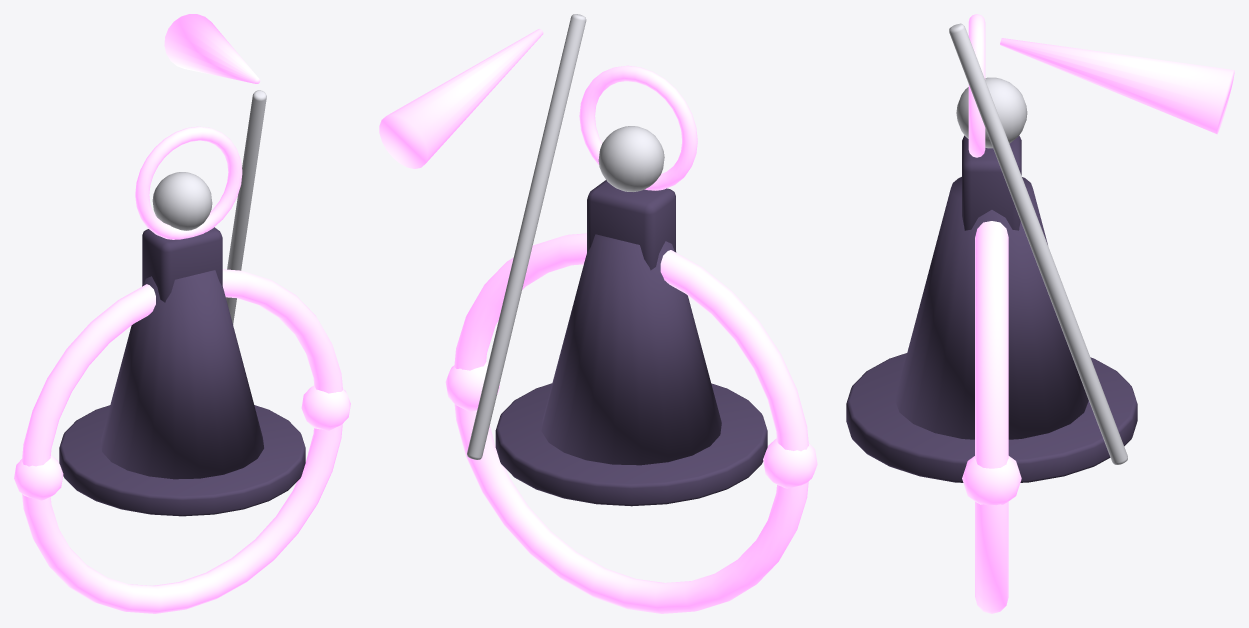
The model's file is hero_vespera.glb.
3 renders of one model, left to right at view 1: azimuth 30°, elevation 25°; view 2: azimuth 150°, elevation 25°; view 3: azimuth 270°, elevation 25°, orthographic. The views are drawn at different scales.
Parts seen in each view (by area): view 1: StaticBody, Anim_Rotor, Anim_Weapon; view 2: StaticBody, Anim_Rotor, Anim_Weapon; view 3: StaticBody, Anim_Weapon, Anim_Rotor.
Part boxes in pixels (x1,y1,x2,y2): StaticBody: [59, 126, 305, 516]; Anim_Rotor: [14, 269, 350, 613]; Anim_Weapon: [164, 14, 266, 324]; StaticBody: [495, 65, 767, 506]; Anim_Rotor: [445, 233, 817, 613]; Anim_Weapon: [379, 14, 586, 459]; StaticBody: [846, 14, 1137, 482]; Anim_Weapon: [949, 23, 1234, 464]; Anim_Rotor: [962, 221, 1021, 613].
Size of the model in its own units: 2.4 by 3.57 by 2.08.
